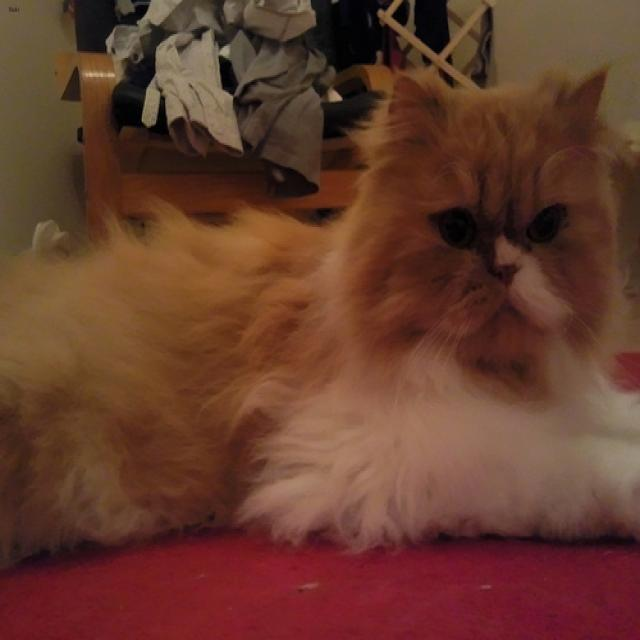Persian: (385, 68, 603, 357)
